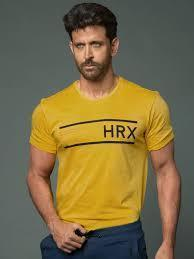Tshirt: (28, 78, 177, 238)
